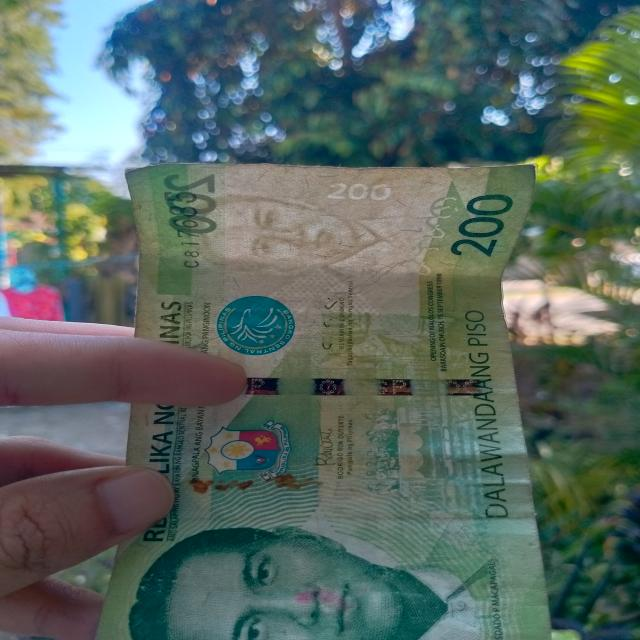security_thread: (245, 377, 512, 394)
see_through_mark: (402, 192, 470, 284)
value_watermark: (319, 178, 395, 210)
watermark: (191, 189, 412, 293)
